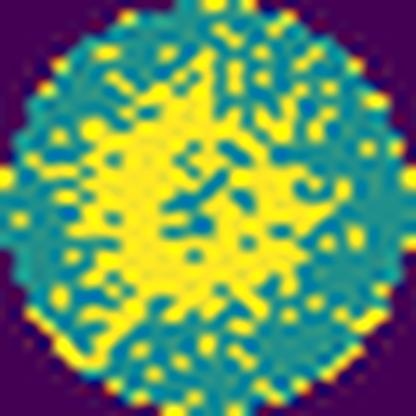Donut: (72, 43, 351, 351)
